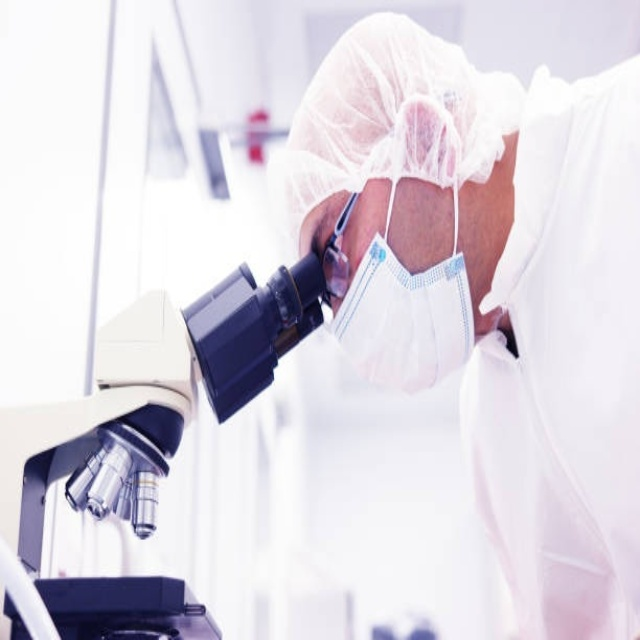Gafas: (321, 190, 360, 299)
Mascara: (327, 184, 477, 398)
